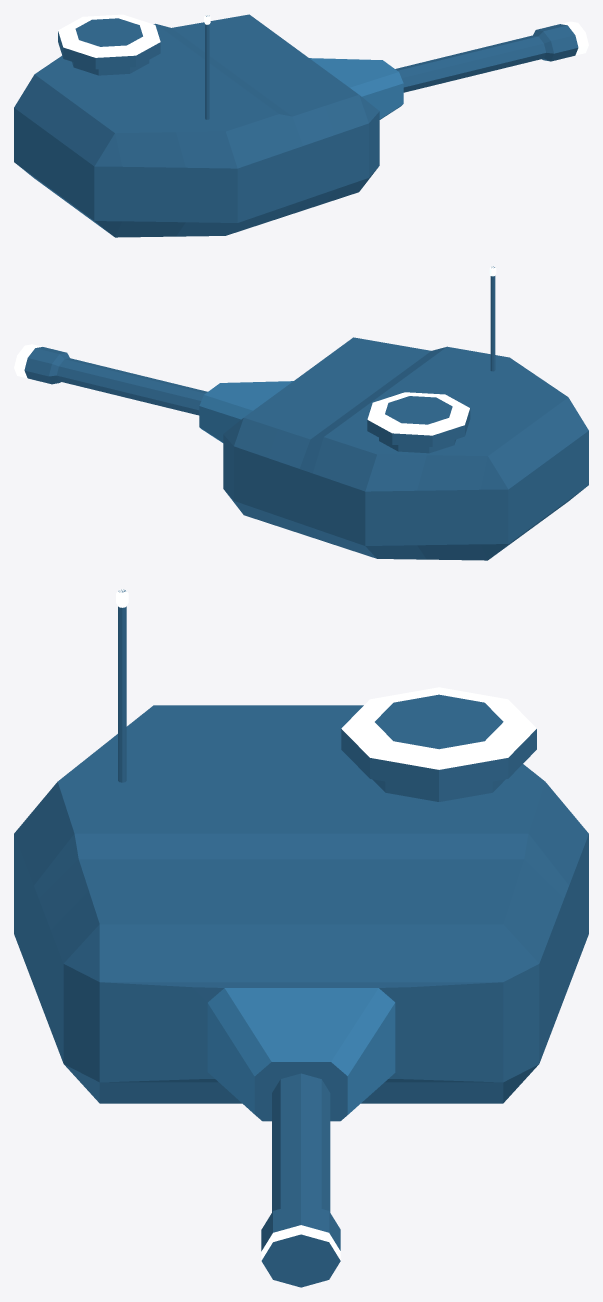
Rendered from turretbasic.fbx.
3 renders of one model, top to bottom at view 1: azimuth 30°, elevation 25°; view 2: azimuth 150°, elevation 25°; view 3: azimuth 270°, elevation 25°, orthographic. The views are drawn at different scales.
Parts seen in each view (by area): view 1: Cube.001, Cylinder, Cube.002; view 2: Cube.001, Cylinder, Cube.002; view 3: Cube.001, Cube.002, Cylinder.
Boxes of the visible parts, left/top/right/bottom form: Cube.001: left=14, top=14, right=403, bottom=237; Cylinder: left=395, top=21, right=588, bottom=92; Cube.002: left=58, top=14, right=160, bottom=75; Cube.001: left=199, top=266, right=588, bottom=560; Cylinder: left=14, top=344, right=207, bottom=415; Cube.002: left=367, top=392, right=470, bottom=453; Cube.001: left=14, top=589, right=588, bottom=1121; Cube.002: left=341, top=687, right=536, bottom=801; Cylinder: left=261, top=1073, right=340, bottom=1287.
Bounding box in the file's own units: 278 × 116 × 144.
